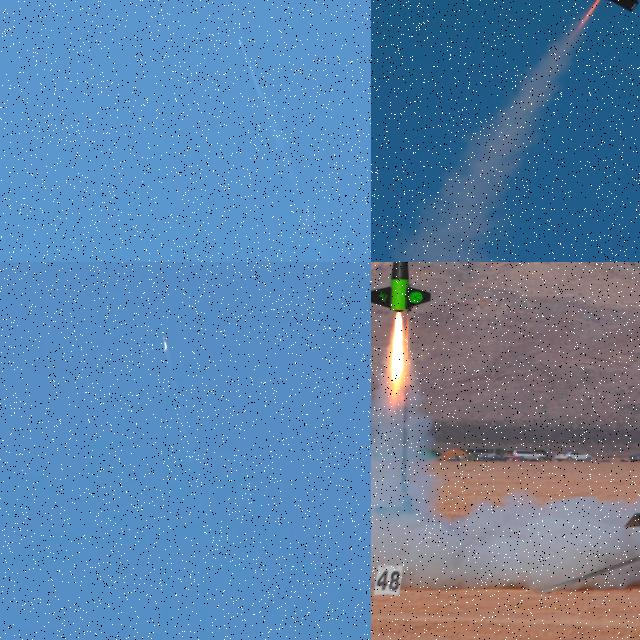Rocket: (371, 262, 432, 312), (162, 335, 169, 353), (240, 42, 242, 45)
